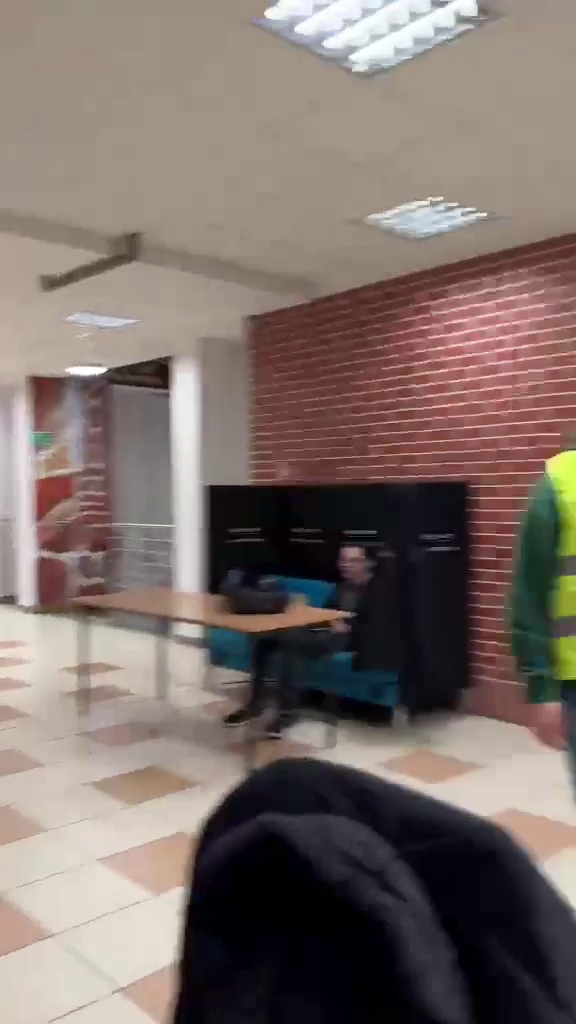no vest: (247, 534, 396, 748)
vest: (507, 426, 576, 797)
